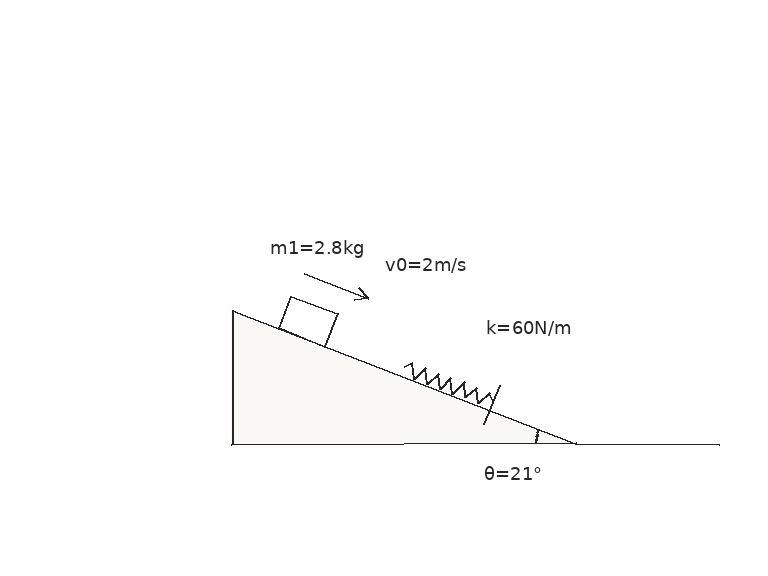block: (277, 293, 339, 348)
ramp: (230, 309, 578, 445)
spring: (402, 361, 495, 405)
